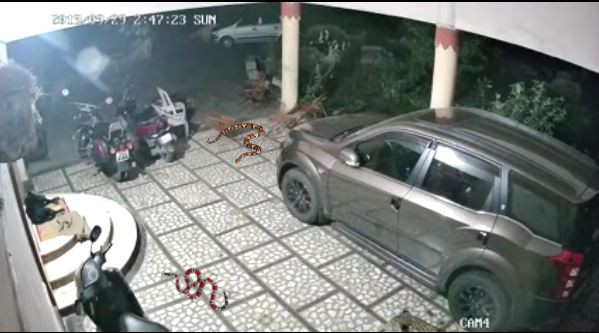snake: (160, 266, 228, 312), (205, 121, 265, 164)
